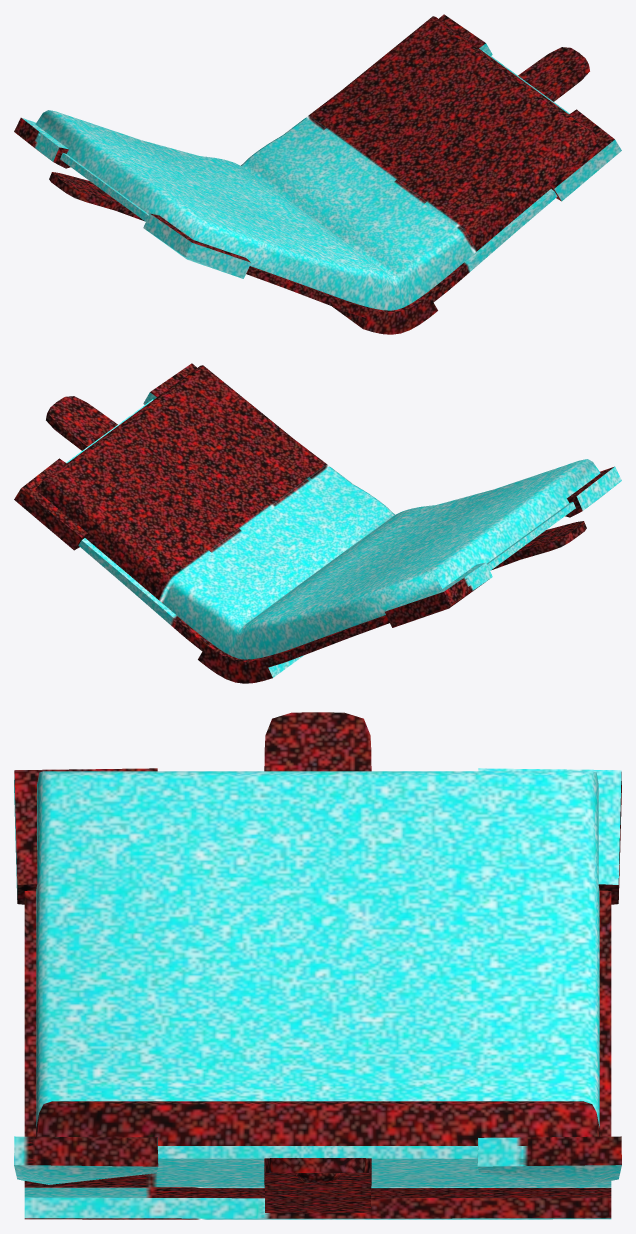
The picture shows the model from 3 angles, top to bottom: view 1: azimuth 30°, elevation 25°; view 2: azimuth 150°, elevation 25°; view 3: azimuth 270°, elevation 25°; orthographic projection. The views are drawn at different scales.
Visible parts, largest first — view 1: SM_M_MED_Zamorak_Mage_Grimoire_1H_01_LOD0; view 2: SM_M_MED_Zamorak_Mage_Grimoire_1H_01_LOD0; view 3: SM_M_MED_Zamorak_Mage_Grimoire_1H_01_LOD0.
Part boxes in pixels (x1,y1,x2,y2): SM_M_MED_Zamorak_Mage_Grimoire_1H_01_LOD0: (14,14,621,334); SM_M_MED_Zamorak_Mage_Grimoire_1H_01_LOD0: (14,363,621,683); SM_M_MED_Zamorak_Mage_Grimoire_1H_01_LOD0: (14,712,621,1219).
Bounding box in the file's own units: 0.4299 × 0.123 × 0.2435.
1 material, 1 textured.
